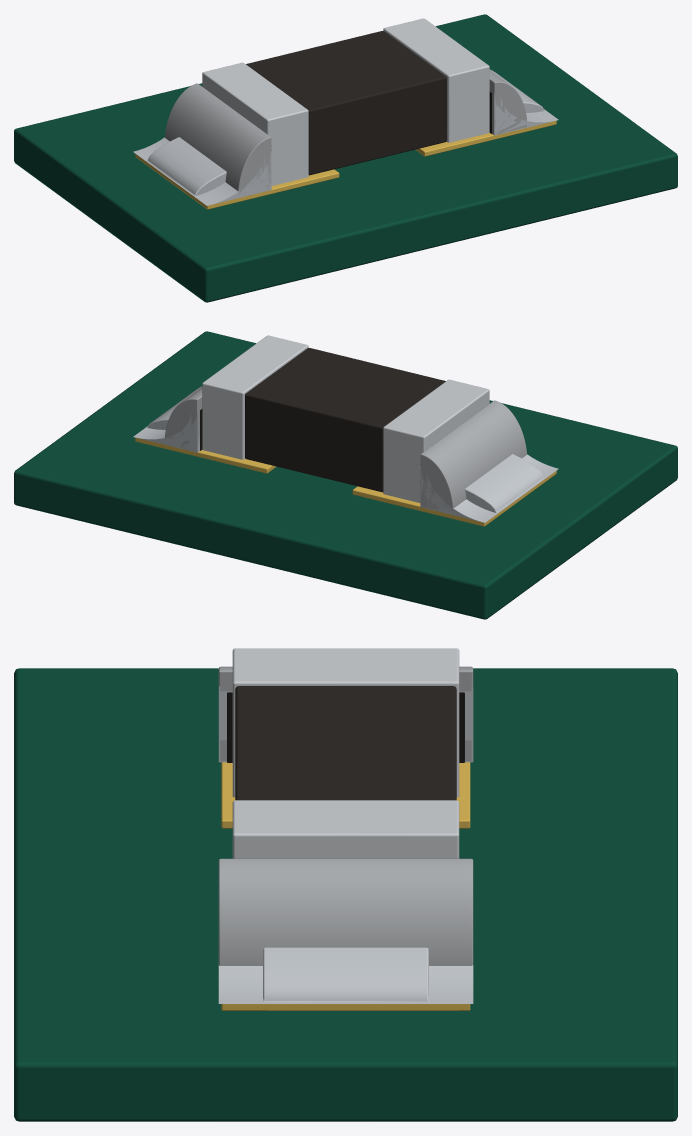
The model's file is B40_JOINT_LOD0.glb.
The picture shows the model from 3 angles, top to bottom: view 1: azimuth 30°, elevation 25°; view 2: azimuth 150°, elevation 25°; view 3: azimuth 270°, elevation 25°; orthographic projection. The views are drawn at different scales.
Parts seen in each view (by area): view 1: B40_STATE_BRIDGED_BOARD, B40_STATE_BRIDGED_CMP_BODY, B40_STATE_COLD_FILLET_L, B40_STATE_BRIDGED_CMP_CAP_L, B40_STATE_BRIDGED_CMP_CAP_R, B40_STATE_BRIDGED_BRIDGE, B40_STATE_CRACKED_FILLET_L, B40_STATE_COLD_FILLET_R, B40_STATE_BRIDGED_PAD_L, B40_STATE_BRIDGED_PAD_R, B40_STATE_BRIDGED_FILLET_L, B40_STATE_CRACKED_FILLET_R; view 2: B40_STATE_BRIDGED_BOARD, B40_STATE_BRIDGED_CMP_BODY, B40_STATE_COLD_FILLET_L, B40_STATE_BRIDGED_CMP_CAP_L, B40_STATE_BRIDGED_CMP_CAP_R, B40_STATE_BRIDGED_BRIDGE, B40_STATE_CRACKED_FILLET_L, B40_STATE_BRIDGED_PAD_L, B40_STATE_COLD_FILLET_R, B40_STATE_BRIDGED_PAD_R, B40_STATE_CRACKED_FILLET_R, B40_STATE_BRIDGED_FILLET_R; view 3: B40_STATE_BRIDGED_BOARD, B40_STATE_BRIDGED_CMP_BODY, B40_STATE_COLD_FILLET_R, B40_STATE_BRIDGED_CMP_CAP_R, B40_STATE_BRIDGED_CMP_CAP_L, B40_STATE_BRIDGED_BRIDGE, B40_STATE_CRACKED_FILLET_R, B40_STATE_BRIDGED_PAD_R, B40_STATE_BRIDGED_PAD_L, B40_STATE_BRIDGED_FILLET_L, B40_STATE_CRACKED_CRACK_L, B40_STATE_COLD_FILLET_L.
Boxes of the visible parts, x1,y1,x2,y2 form: B40_STATE_BRIDGED_BOARD: (14, 14, 677, 302); B40_STATE_BRIDGED_CMP_BODY: (246, 31, 446, 175); B40_STATE_COLD_FILLET_L: (165, 83, 271, 195); B40_STATE_BRIDGED_CMP_CAP_L: (202, 62, 308, 185); B40_STATE_BRIDGED_CMP_CAP_R: (383, 18, 489, 142); B40_STATE_BRIDGED_BRIDGE: (147, 69, 544, 195); B40_STATE_CRACKED_FILLET_L: (133, 137, 265, 205); B40_STATE_COLD_FILLET_R: (489, 70, 526, 134); B40_STATE_BRIDGED_PAD_L: (135, 154, 339, 209); B40_STATE_BRIDGED_PAD_R: (415, 120, 556, 156); B40_STATE_BRIDGED_FILLET_L: (223, 151, 271, 201); B40_STATE_CRACKED_FILLET_R: (500, 96, 558, 124); B40_STATE_BRIDGED_BOARD: (14, 331, 677, 619); B40_STATE_BRIDGED_CMP_BODY: (245, 348, 445, 492); B40_STATE_COLD_FILLET_L: (420, 400, 526, 510); B40_STATE_BRIDGED_CMP_CAP_L: (383, 379, 489, 502); B40_STATE_BRIDGED_CMP_CAP_R: (202, 335, 308, 459); B40_STATE_BRIDGED_BRIDGE: (147, 386, 544, 512); B40_STATE_CRACKED_FILLET_L: (426, 454, 558, 522); B40_STATE_BRIDGED_PAD_L: (352, 471, 556, 526); B40_STATE_COLD_FILLET_R: (165, 387, 202, 445); B40_STATE_BRIDGED_PAD_R: (135, 437, 276, 473); B40_STATE_CRACKED_FILLET_R: (133, 413, 191, 445); B40_STATE_BRIDGED_FILLET_R: (149, 411, 199, 452); B40_STATE_BRIDGED_BOARD: (14, 668, 677, 1121); B40_STATE_BRIDGED_CMP_BODY: (235, 686, 456, 800); B40_STATE_COLD_FILLET_R: (218, 858, 473, 965); B40_STATE_BRIDGED_CMP_CAP_R: (232, 800, 459, 858); B40_STATE_BRIDGED_CMP_CAP_L: (232, 648, 459, 797); B40_STATE_BRIDGED_BRIDGE: (263, 947, 428, 1002); B40_STATE_CRACKED_FILLET_R: (218, 965, 473, 1003); B40_STATE_BRIDGED_PAD_R: (221, 1004, 470, 1010); B40_STATE_BRIDGED_PAD_L: (221, 762, 470, 828); B40_STATE_BRIDGED_FILLET_L: (218, 691, 472, 762); B40_STATE_CRACKED_CRACK_L: (227, 692, 464, 762); B40_STATE_COLD_FILLET_L: (218, 666, 473, 691).
Bounding box in the file's own units: 3.4 × 0.735 × 2.4.
